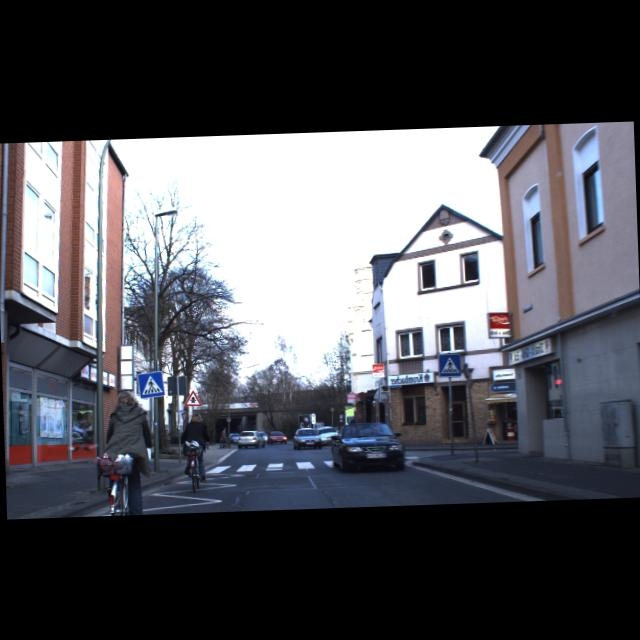danger: (182, 389, 202, 406)
